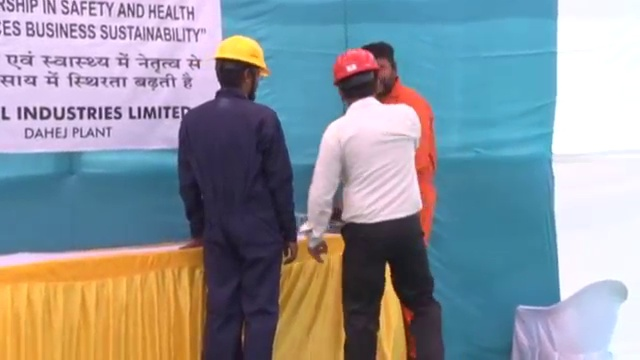helmet: (213, 33, 273, 78), (330, 47, 379, 86)
helmet_off: (368, 42, 399, 98)
helmet_on: (212, 32, 273, 100), (330, 44, 380, 107)
person: (305, 44, 444, 360), (174, 33, 301, 360), (365, 42, 438, 230)
